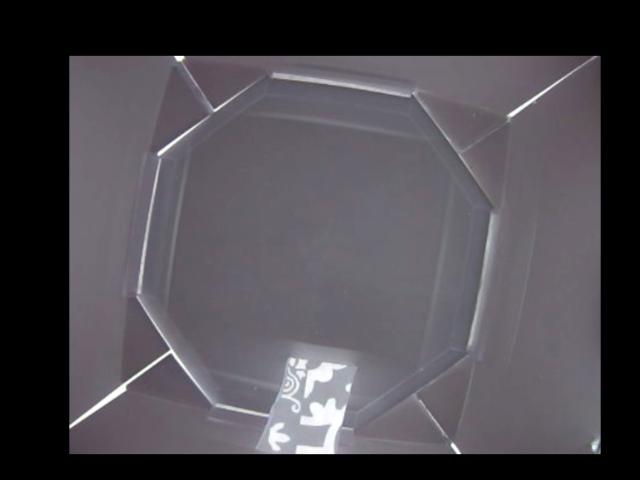China: (249, 357, 355, 454)
